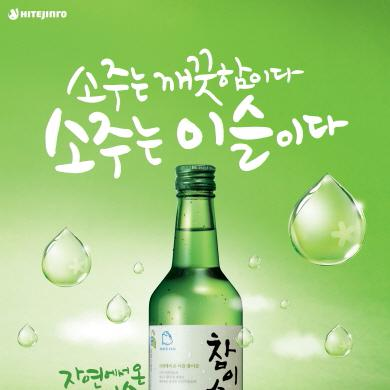soju: (146, 163, 247, 390)
